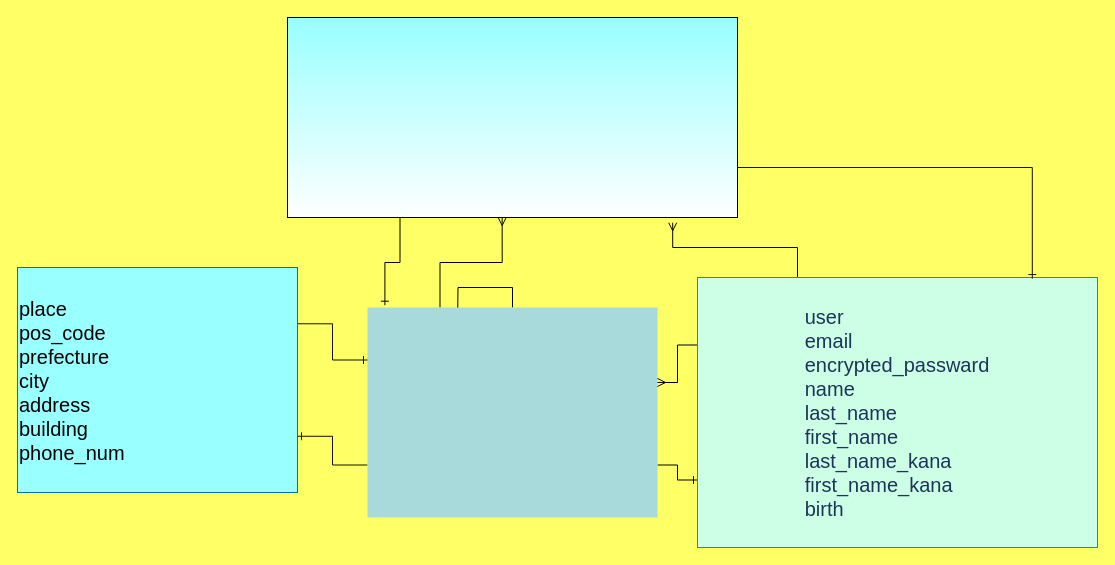
Some shapes in this 1115 by 565 pixel diagram are drawn without their labels. Here are the shapes that lost their labels. From the top down, the centre of each, then its label:
[512,117]: redord
[512,412]: item title price catch_copy category_id condition_id fee_id area_id
